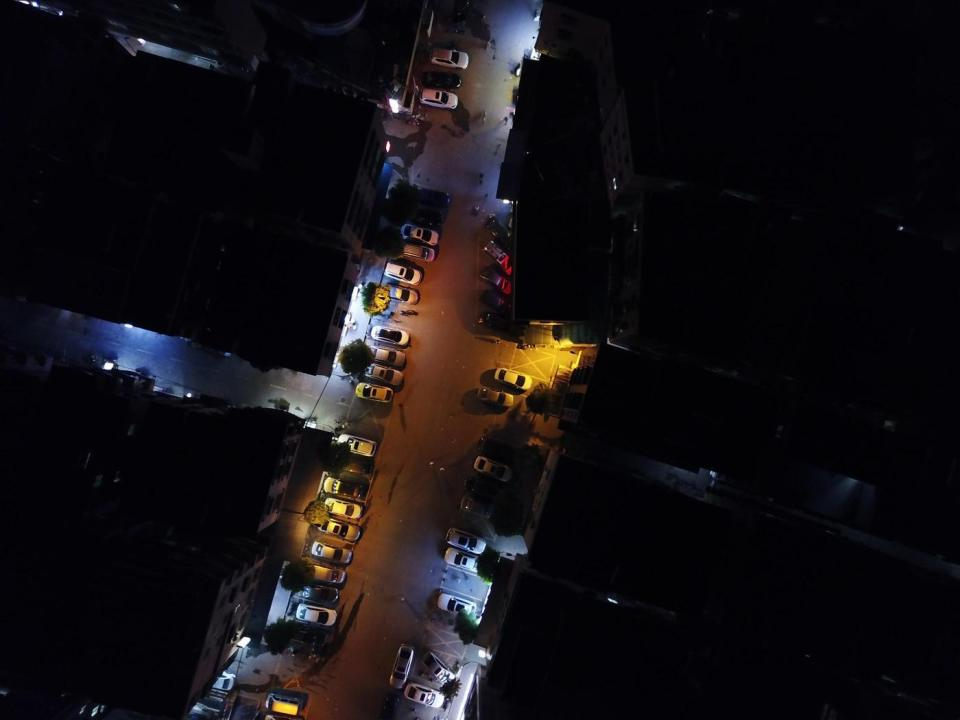car: (420, 650, 456, 686), (444, 546, 488, 574), (472, 454, 513, 484), (445, 526, 487, 554), (316, 517, 361, 543), (390, 644, 414, 689), (322, 476, 367, 500), (436, 592, 477, 618), (404, 682, 444, 708), (477, 312, 517, 338), (295, 603, 337, 627), (363, 362, 404, 386), (311, 540, 352, 564), (364, 345, 406, 368), (336, 434, 376, 458), (479, 266, 513, 294), (494, 366, 532, 391), (384, 261, 422, 286), (400, 223, 439, 247), (484, 216, 514, 247), (429, 47, 469, 70), (460, 494, 496, 519), (322, 498, 364, 519), (380, 284, 420, 306), (406, 205, 444, 228), (201, 667, 237, 691), (464, 477, 500, 501), (297, 583, 340, 603), (411, 186, 450, 208), (355, 381, 394, 403), (476, 385, 513, 408), (420, 88, 458, 110), (332, 455, 371, 476), (371, 326, 411, 346), (480, 290, 512, 314), (422, 70, 462, 89), (379, 692, 399, 720)
van: (483, 240, 515, 275), (302, 562, 346, 584), (264, 692, 304, 716), (399, 242, 436, 263)
